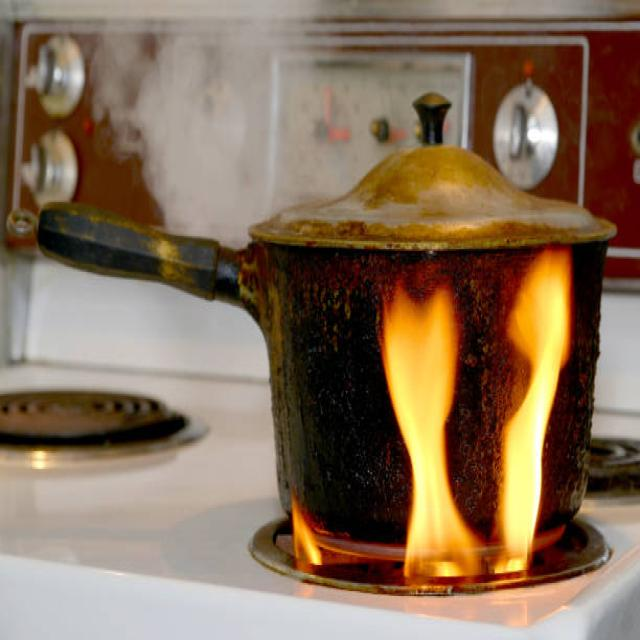fire: (364, 259, 594, 591), (282, 481, 343, 596)
